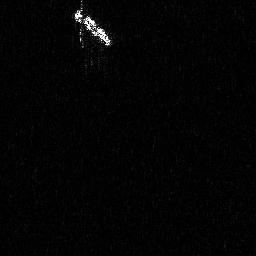ship: (72, 1, 114, 49)
